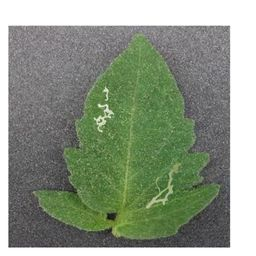liriomyza: (144, 161, 180, 209), (92, 85, 114, 134)
